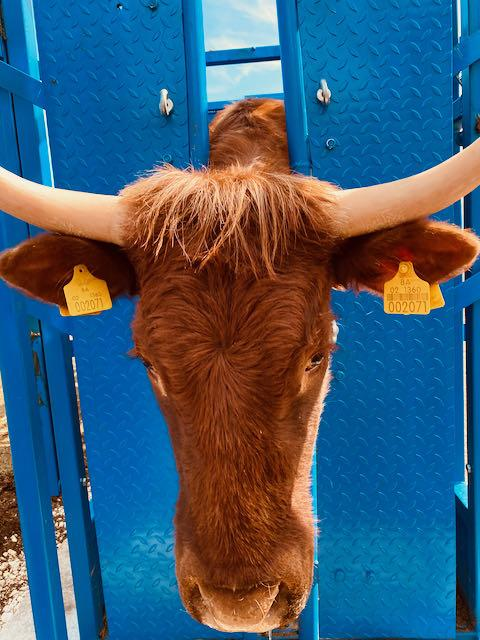muzzles: (165, 569, 313, 634)
